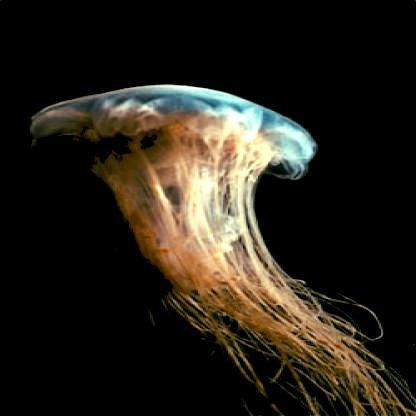GoldThorn: (34, 83, 380, 395)
